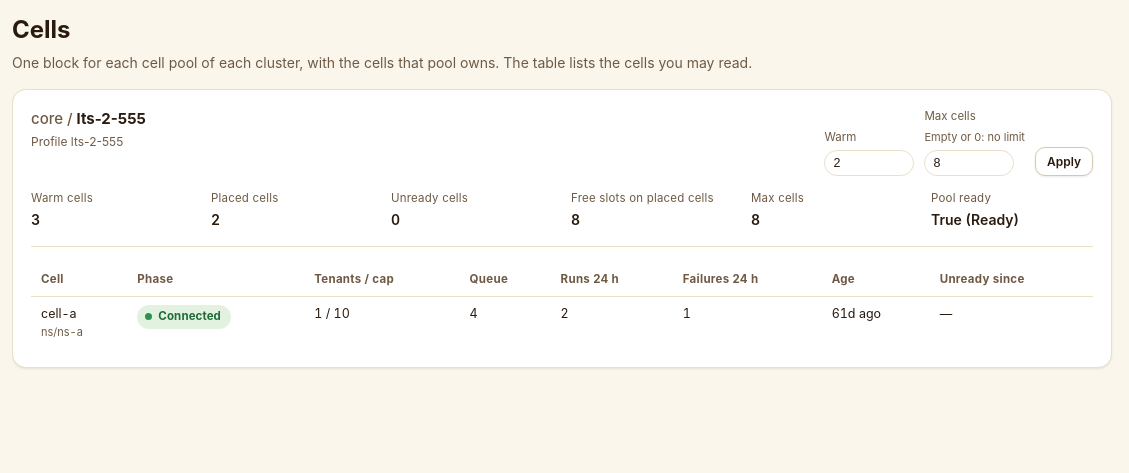
Scenario: The scale control › keeps the typed values and retries nothing on a 409
Replace the text in the number field named "Warm cells of lts-2-555 on core" with "6": (870, 163) [824,150,914,176]
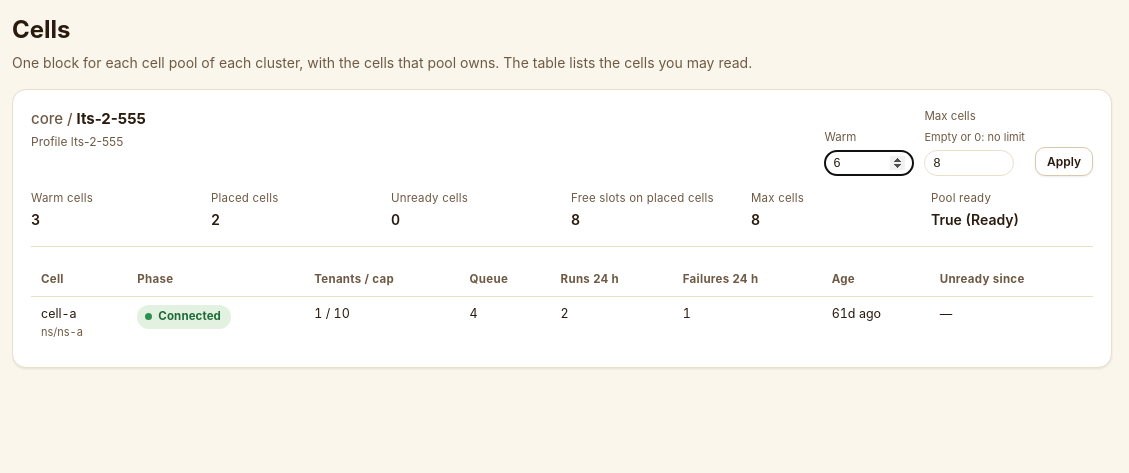
Click the button "Apply": (1064, 161) [1035,147,1093,176]
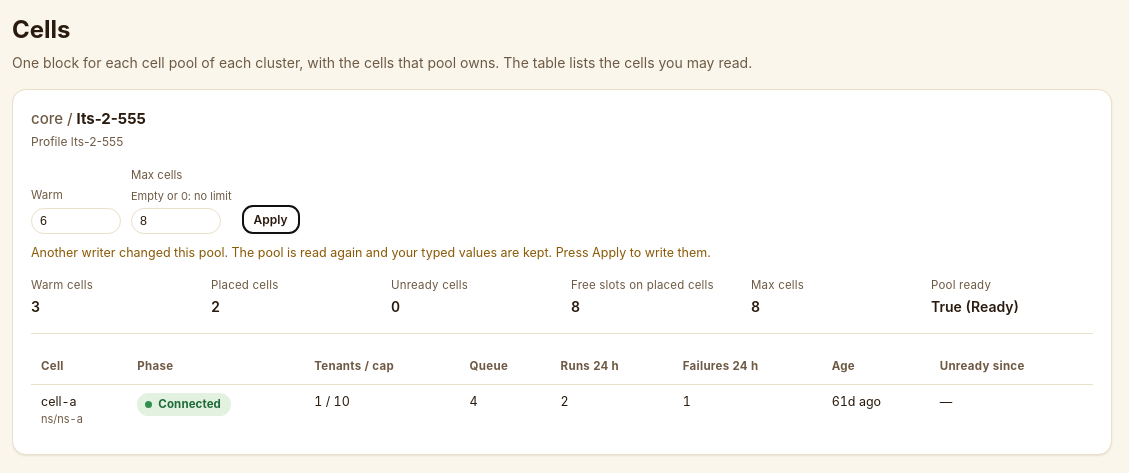
expect the message shows "Another writer": met, box [31,245,711,260]
